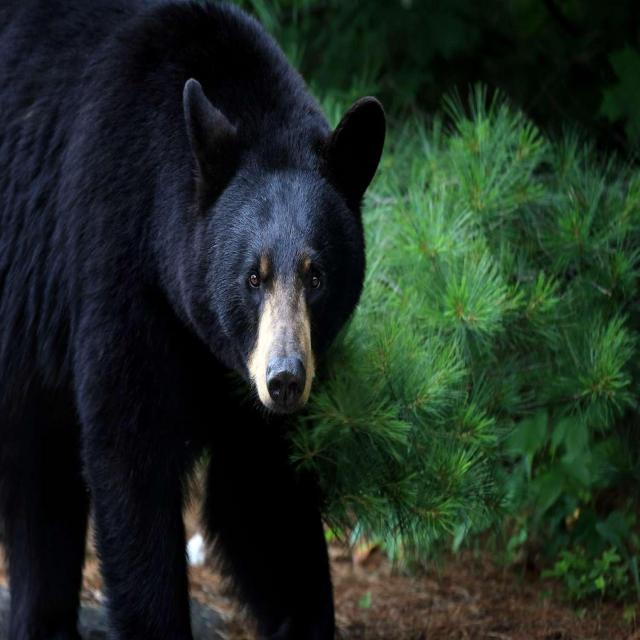Bear: (0, 0, 387, 640)
